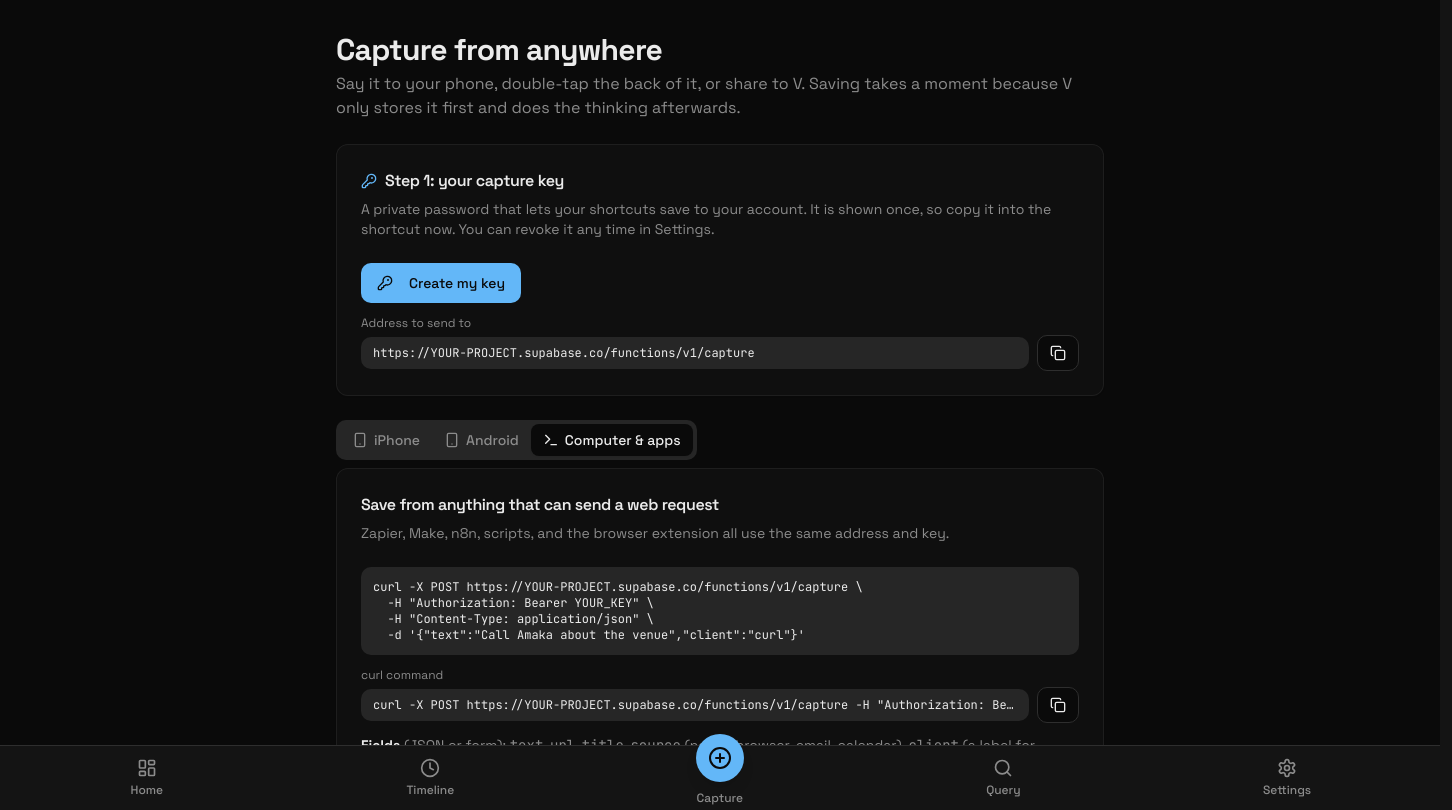
Test case: Quick capture setup guide › gives the exact Siri phrase and the Back Tap path
Press the mouse on the tab "iPhone" at (386, 440), box [340,424,432,456]
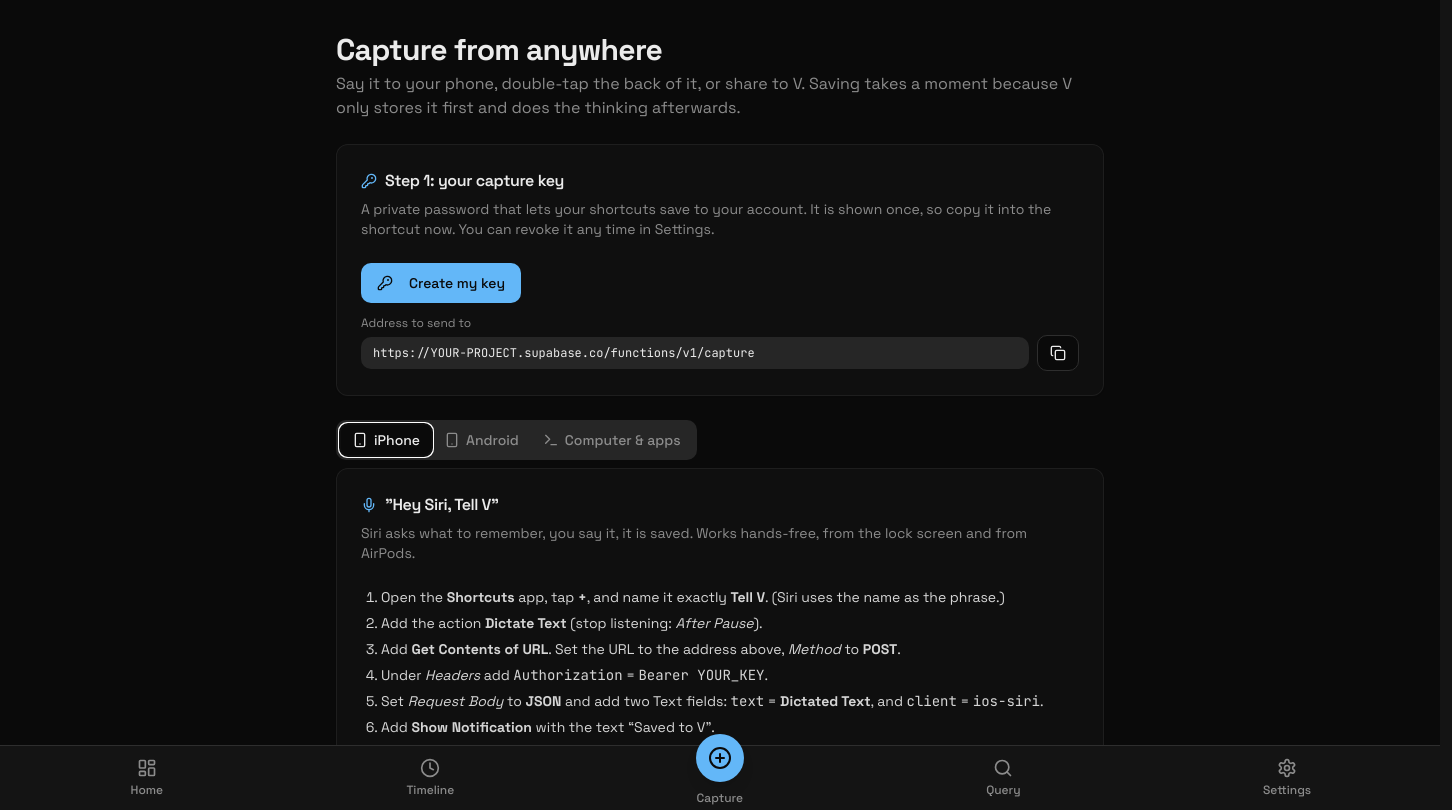
Expected: the text "Dictate Text" is shown, [485,614,567,632]
Expected: the text "Hey Siri, Tell V" is shown, [385,494,499,515]
